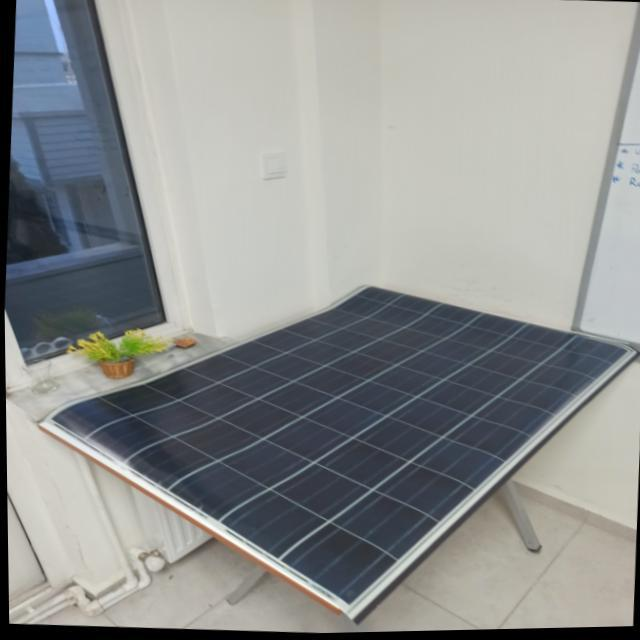no faulty: (54, 285, 630, 602)
